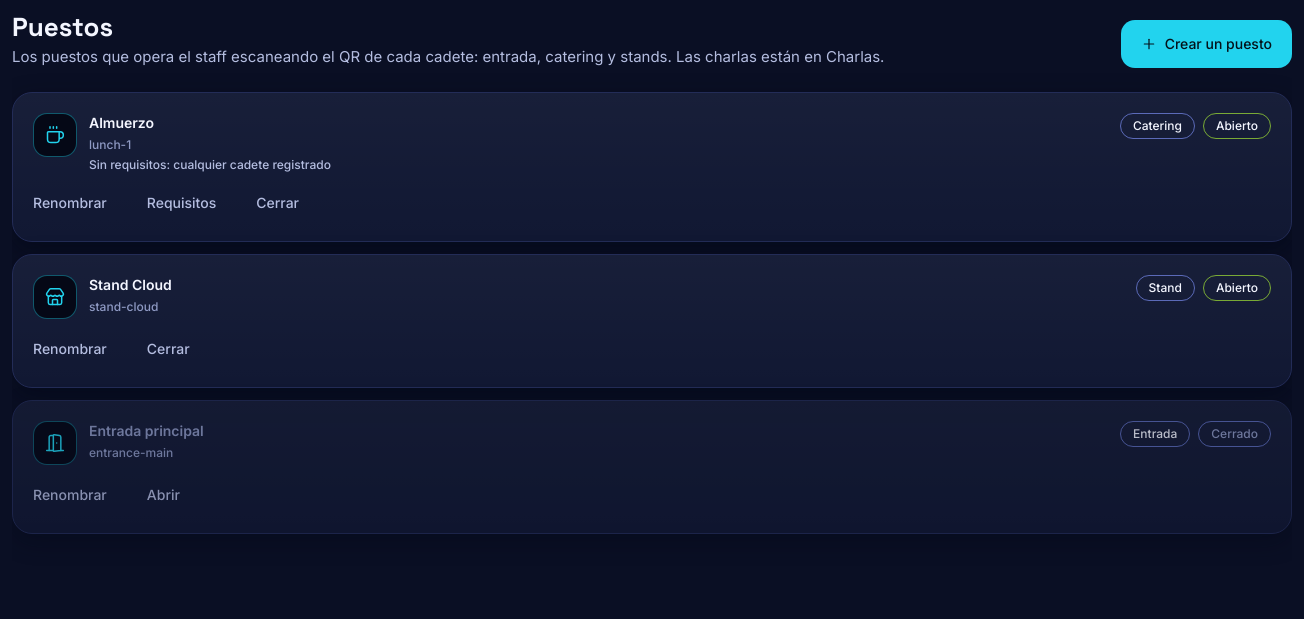
Test: CheckpointsAdminView open and close › closes an open checkpoint, says which one, and refreshes the list
Click the button "Cerrar" below "lunch-1": click(278, 203) [240, 185, 315, 221]
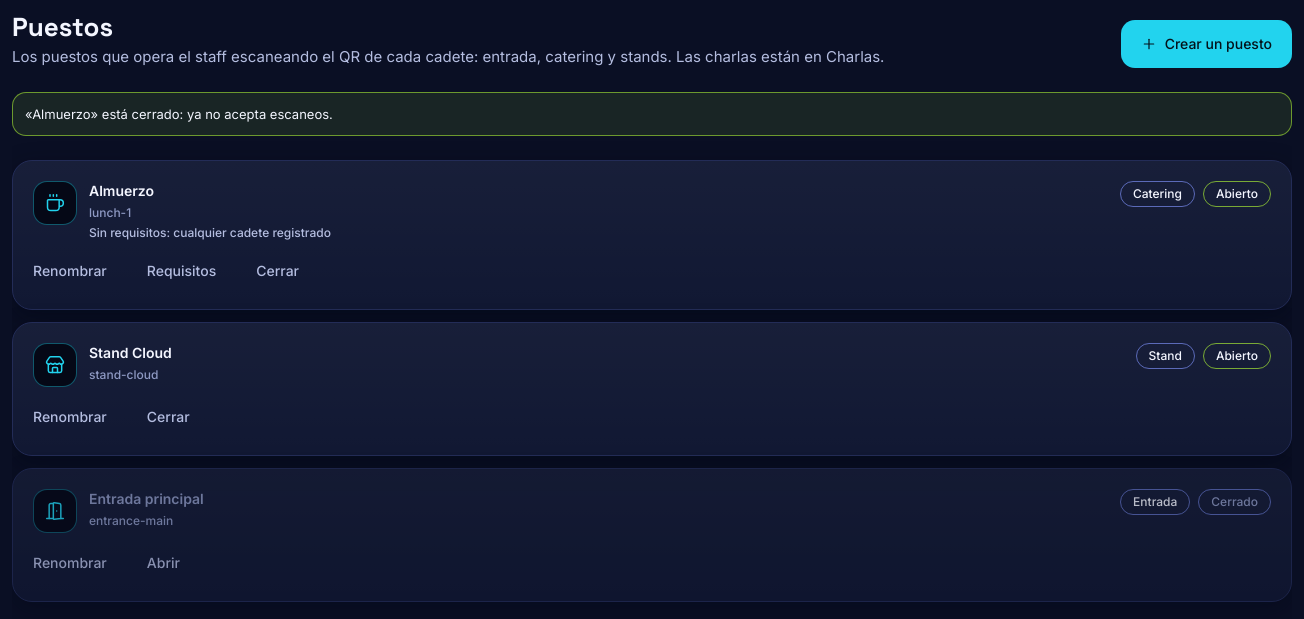
Now the message reads "«Almuerzo» está cerrado: ya no acepta escaneos.", box [25, 106, 333, 122]
